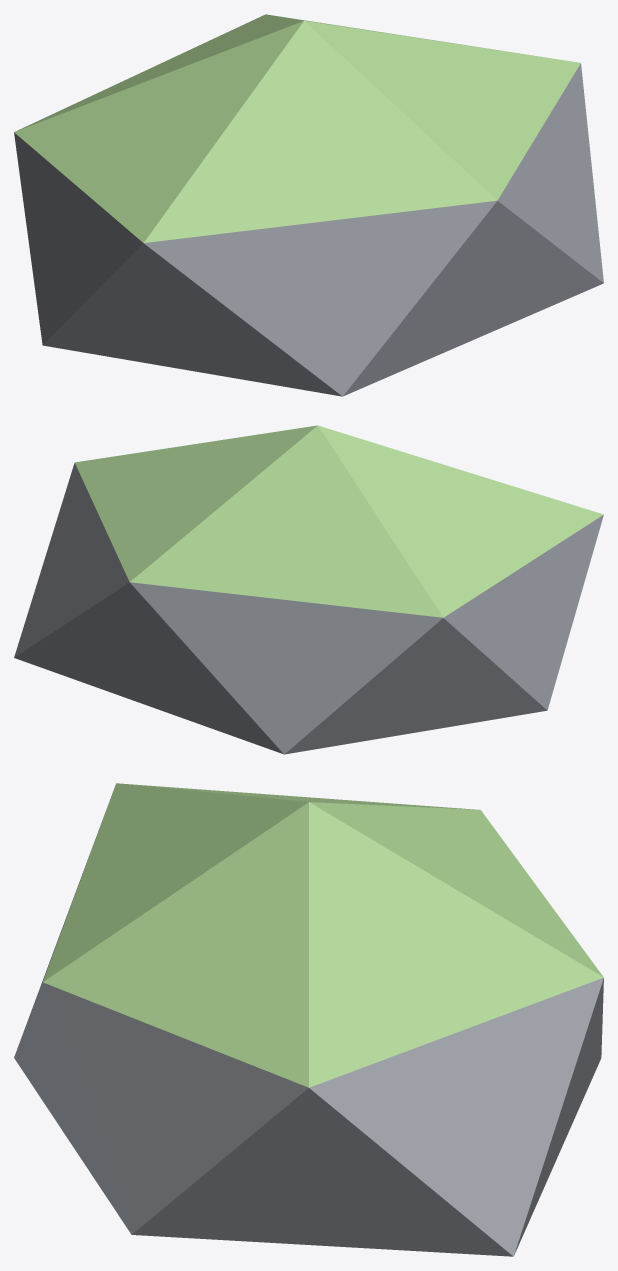
The model's file is VStone_A.fbx.
3 views of the same model, one above another, from view 1: azimuth 30°, elevation 25°; view 2: azimuth 150°, elevation 25°; view 3: azimuth 270°, elevation 25° (orthographic). The views are drawn at different scales.
Parts seen in each view (by area): view 1: VStone_A; view 2: VStone_A; view 3: VStone_A.
Boxes of the visible parts, box(x1,y1,x2,y2) form: VStone_A: box(14, 14, 603, 396); VStone_A: box(14, 425, 603, 754); VStone_A: box(14, 783, 603, 1256).
Bounding box in the file's own units: 0.7092 × 0.3497 × 0.5766.
